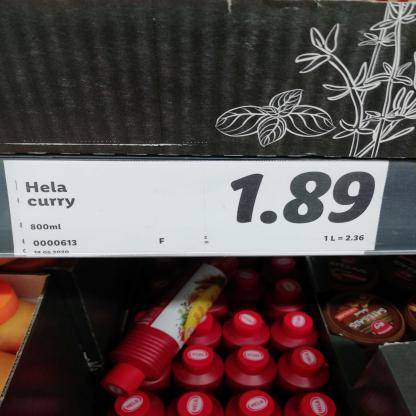prtg: (5, 161, 391, 258)
